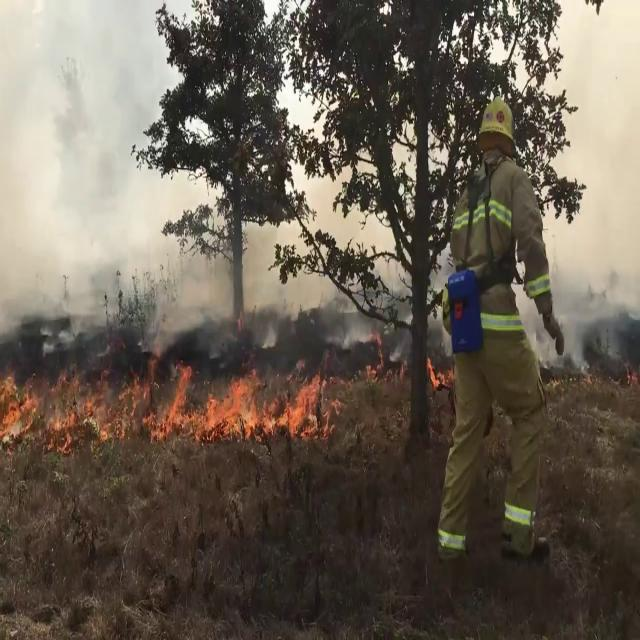Fire: (0, 350, 340, 440)
Smoke: (0, 0, 194, 340), (548, 0, 640, 368)
